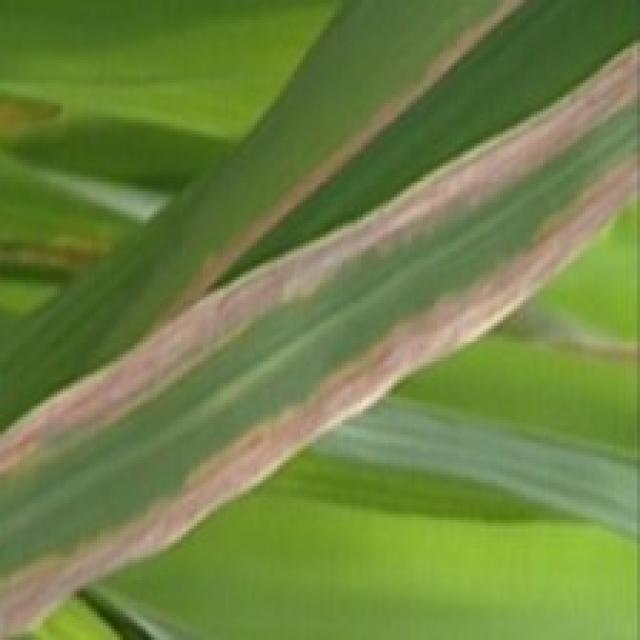Rice___Bacterial_Leaf_Blight: (0, 36, 637, 637)
